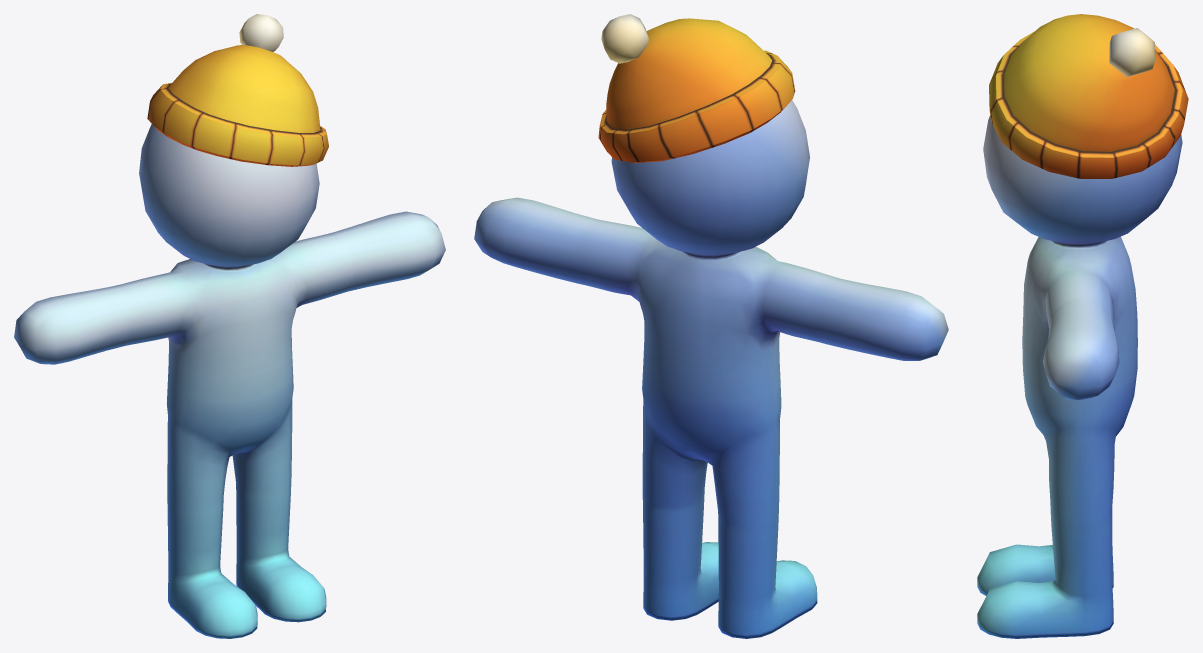
File: Customer01.fbx
3 renders of one model, left to right at view 1: azimuth 30°, elevation 25°; view 2: azimuth 150°, elevation 25°; view 3: azimuth 270°, elevation 25°, orthographic. The views are drawn at different scales.
Parts seen in each view (by area): view 1: Customer01; view 2: Customer01; view 3: Customer01.
Boxes of the visible parts, x1,y1,x2,y2 form: Customer01: (14, 14, 445, 638); Customer01: (474, 14, 948, 638); Customer01: (977, 14, 1188, 638).
Size of the model in its own units: 142 by 177 by 56.19.
